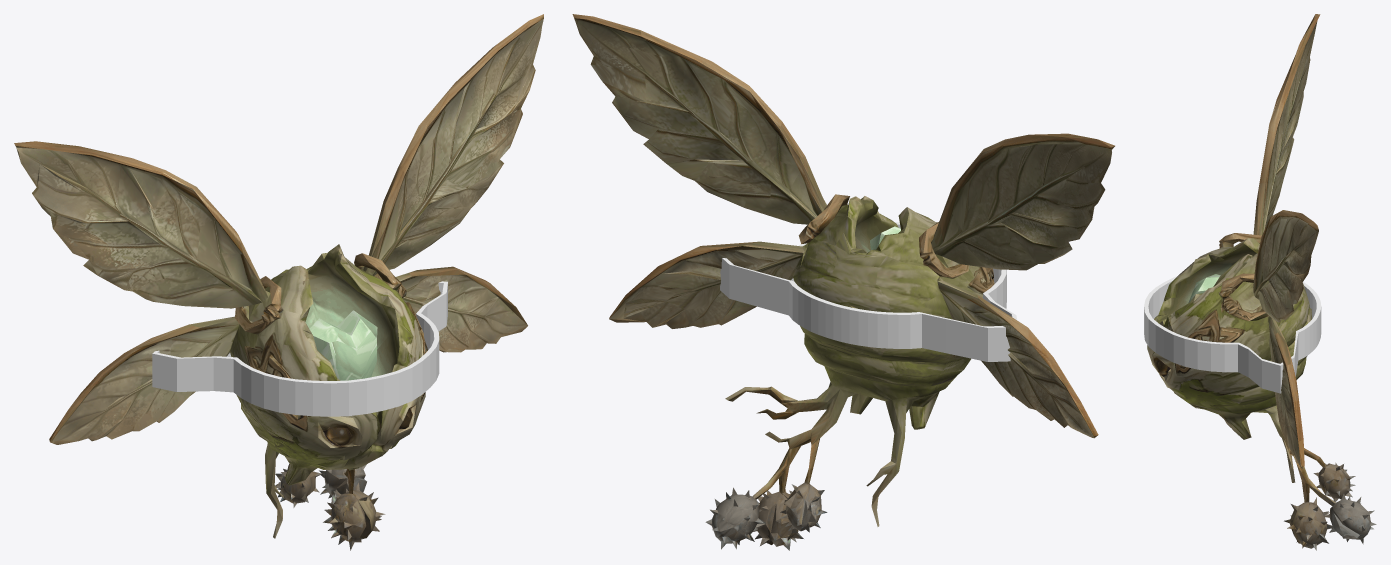
Rendered from sylvan_wisp_swarm.glb.
3 views of the same model, side by side, from view 1: azimuth 30°, elevation 25°; view 2: azimuth 150°, elevation 25°; view 3: azimuth 270°, elevation 25° (orthographic). The views are drawn at different scales.
Visible parts, largest first — view 1: sylvan_wisp_swarm, Team_band; view 2: sylvan_wisp_swarm, Team_band; view 3: sylvan_wisp_swarm, Team_band.
Boxes of the visible parts, x1=… form: sylvan_wisp_swarm: x1=14, y1=14, x2=543, y2=550; Team_band: x1=152, y1=281, x2=447, y2=416; sylvan_wisp_swarm: x1=572, y1=14, x2=1114, y2=550; Team_band: x1=720, y1=222, x2=1017, y2=361; sylvan_wisp_swarm: x1=1147, y1=14, x2=1376, y2=550; Team_band: x1=1144, y1=276, x2=1321, y2=393.
Bounding box in the file's own units: 0.9858 × 0.8487 × 0.4497.
2 materials, 1 textured.
